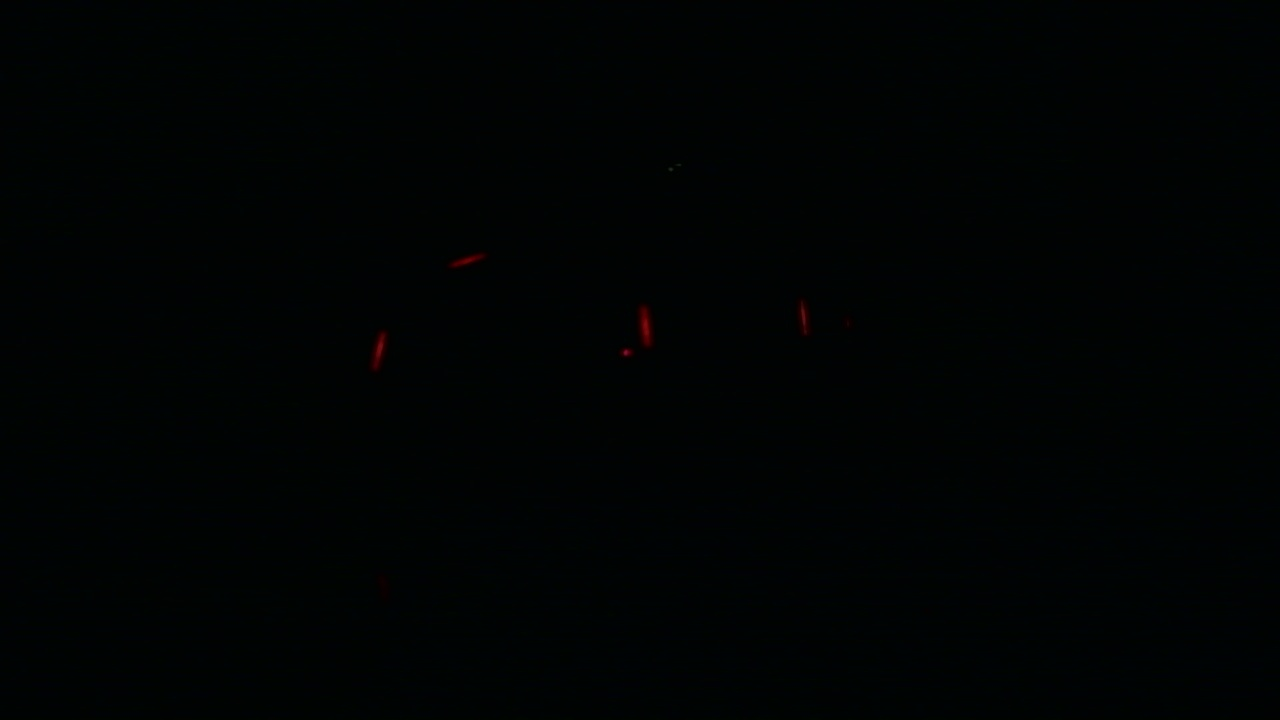lamp: (635, 297, 652, 347), (795, 296, 807, 344)
pair2: (636, 299, 810, 345)
